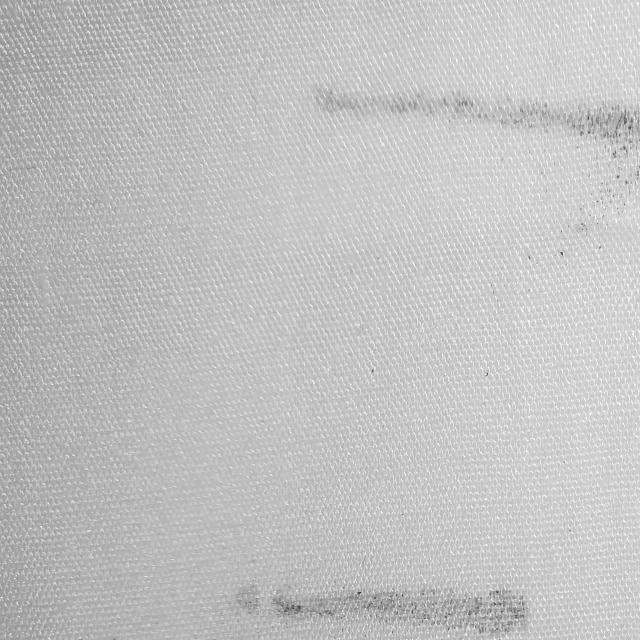Stain: (315, 86, 640, 149), (237, 582, 527, 633)
